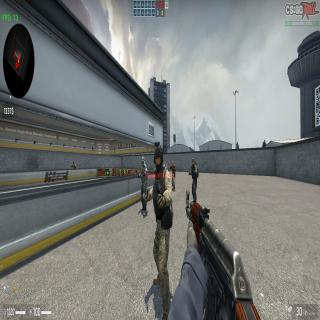CT-Body: (144, 141, 175, 319), (138, 157, 148, 217), (189, 158, 199, 206)
CT-Head: (153, 140, 164, 174), (141, 157, 145, 167), (192, 158, 194, 166)
T-Body: (170, 160, 176, 192), (71, 162, 76, 169)
T-Head: (172, 161, 174, 166), (73, 162, 74, 165)
